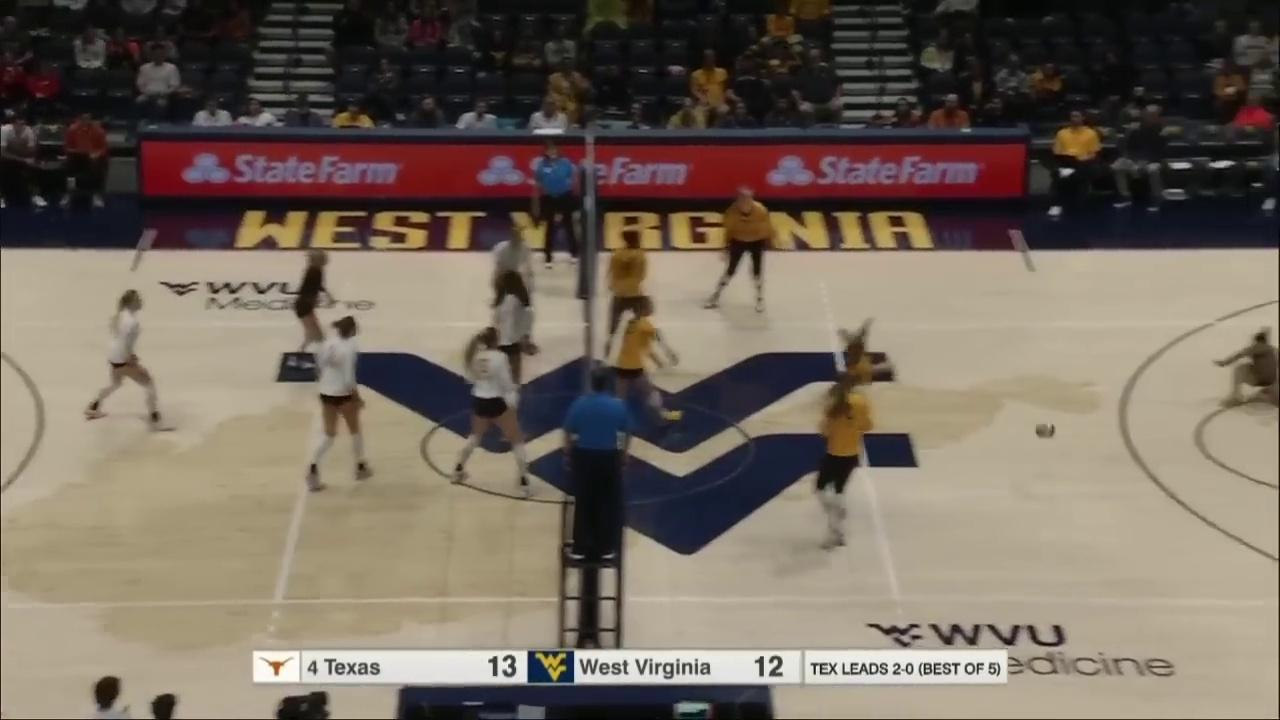player: (452, 326, 540, 495), (305, 316, 379, 490), (87, 291, 175, 429), (603, 230, 681, 363), (611, 295, 681, 429), (705, 187, 776, 314), (816, 385, 871, 548), (490, 273, 540, 435), (1213, 325, 1280, 409), (489, 229, 533, 353), (826, 317, 890, 402), (293, 248, 334, 367)
refree: (563, 370, 637, 564), (534, 143, 581, 268)
